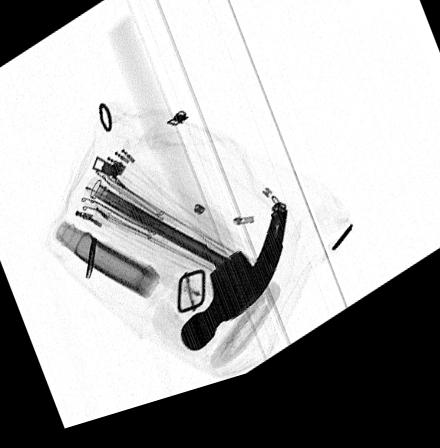Hammer: (105, 21, 288, 364)
